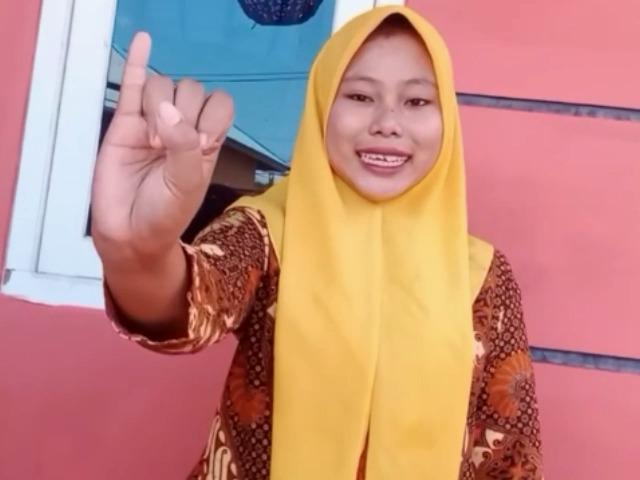I: (88, 29, 235, 247)
